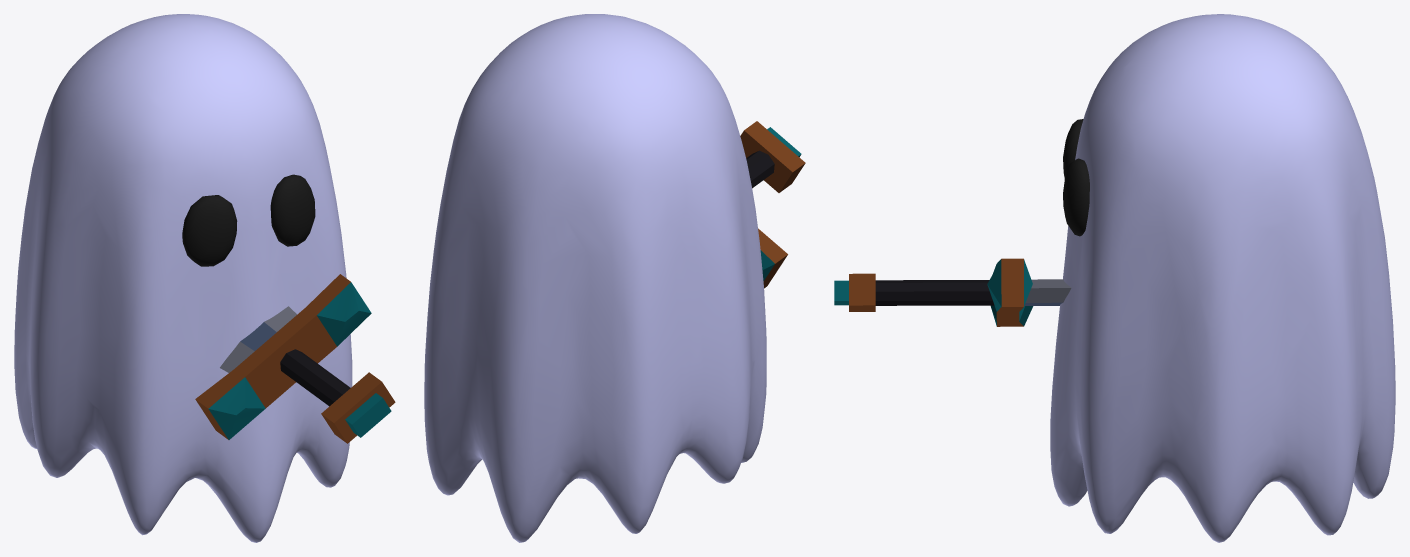
The model's file is ghostSword.fbx.
The picture shows the model from 3 angles, left to right: view 1: azimuth 30°, elevation 25°; view 2: azimuth 150°, elevation 25°; view 3: azimuth 270°, elevation 25°; orthographic projection. The views are drawn at different scales.
Visible parts, largest first — view 1: Cube.002, Cube.001; view 2: Cube.002, Cube.001; view 3: Cube.002, Cube.001.
Part boxes in pixels (x1,y1,x2,y2): Cube.002: (14, 14, 352, 542); Cube.001: (195, 274, 395, 443); Cube.002: (424, 14, 766, 542); Cube.001: (740, 121, 805, 288); Cube.002: (1050, 14, 1395, 542); Cube.001: (834, 258, 1071, 326).
Bounding box in the file's own units: 92.84 × 139 × 148.
